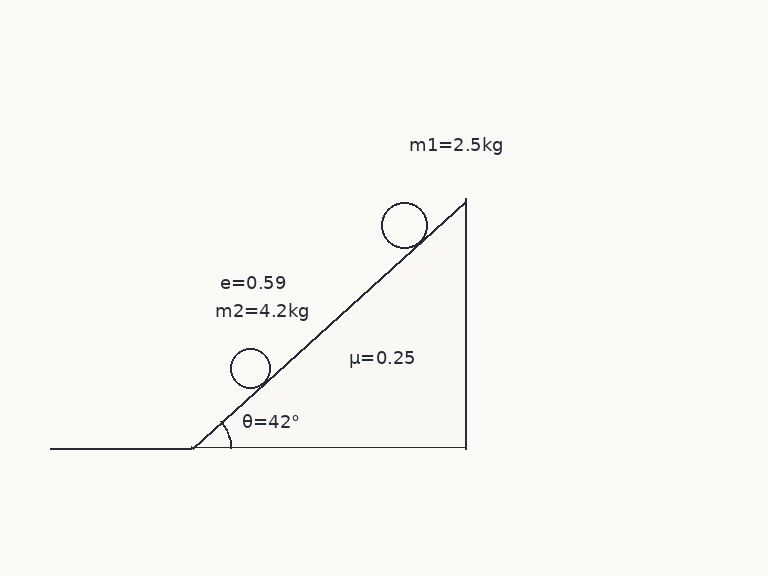ball: (379, 200, 429, 250), (228, 346, 272, 390)
ramp: (189, 198, 468, 450)
